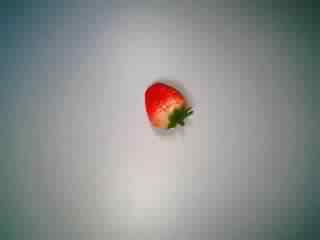strawberry: (133, 78, 201, 142)
